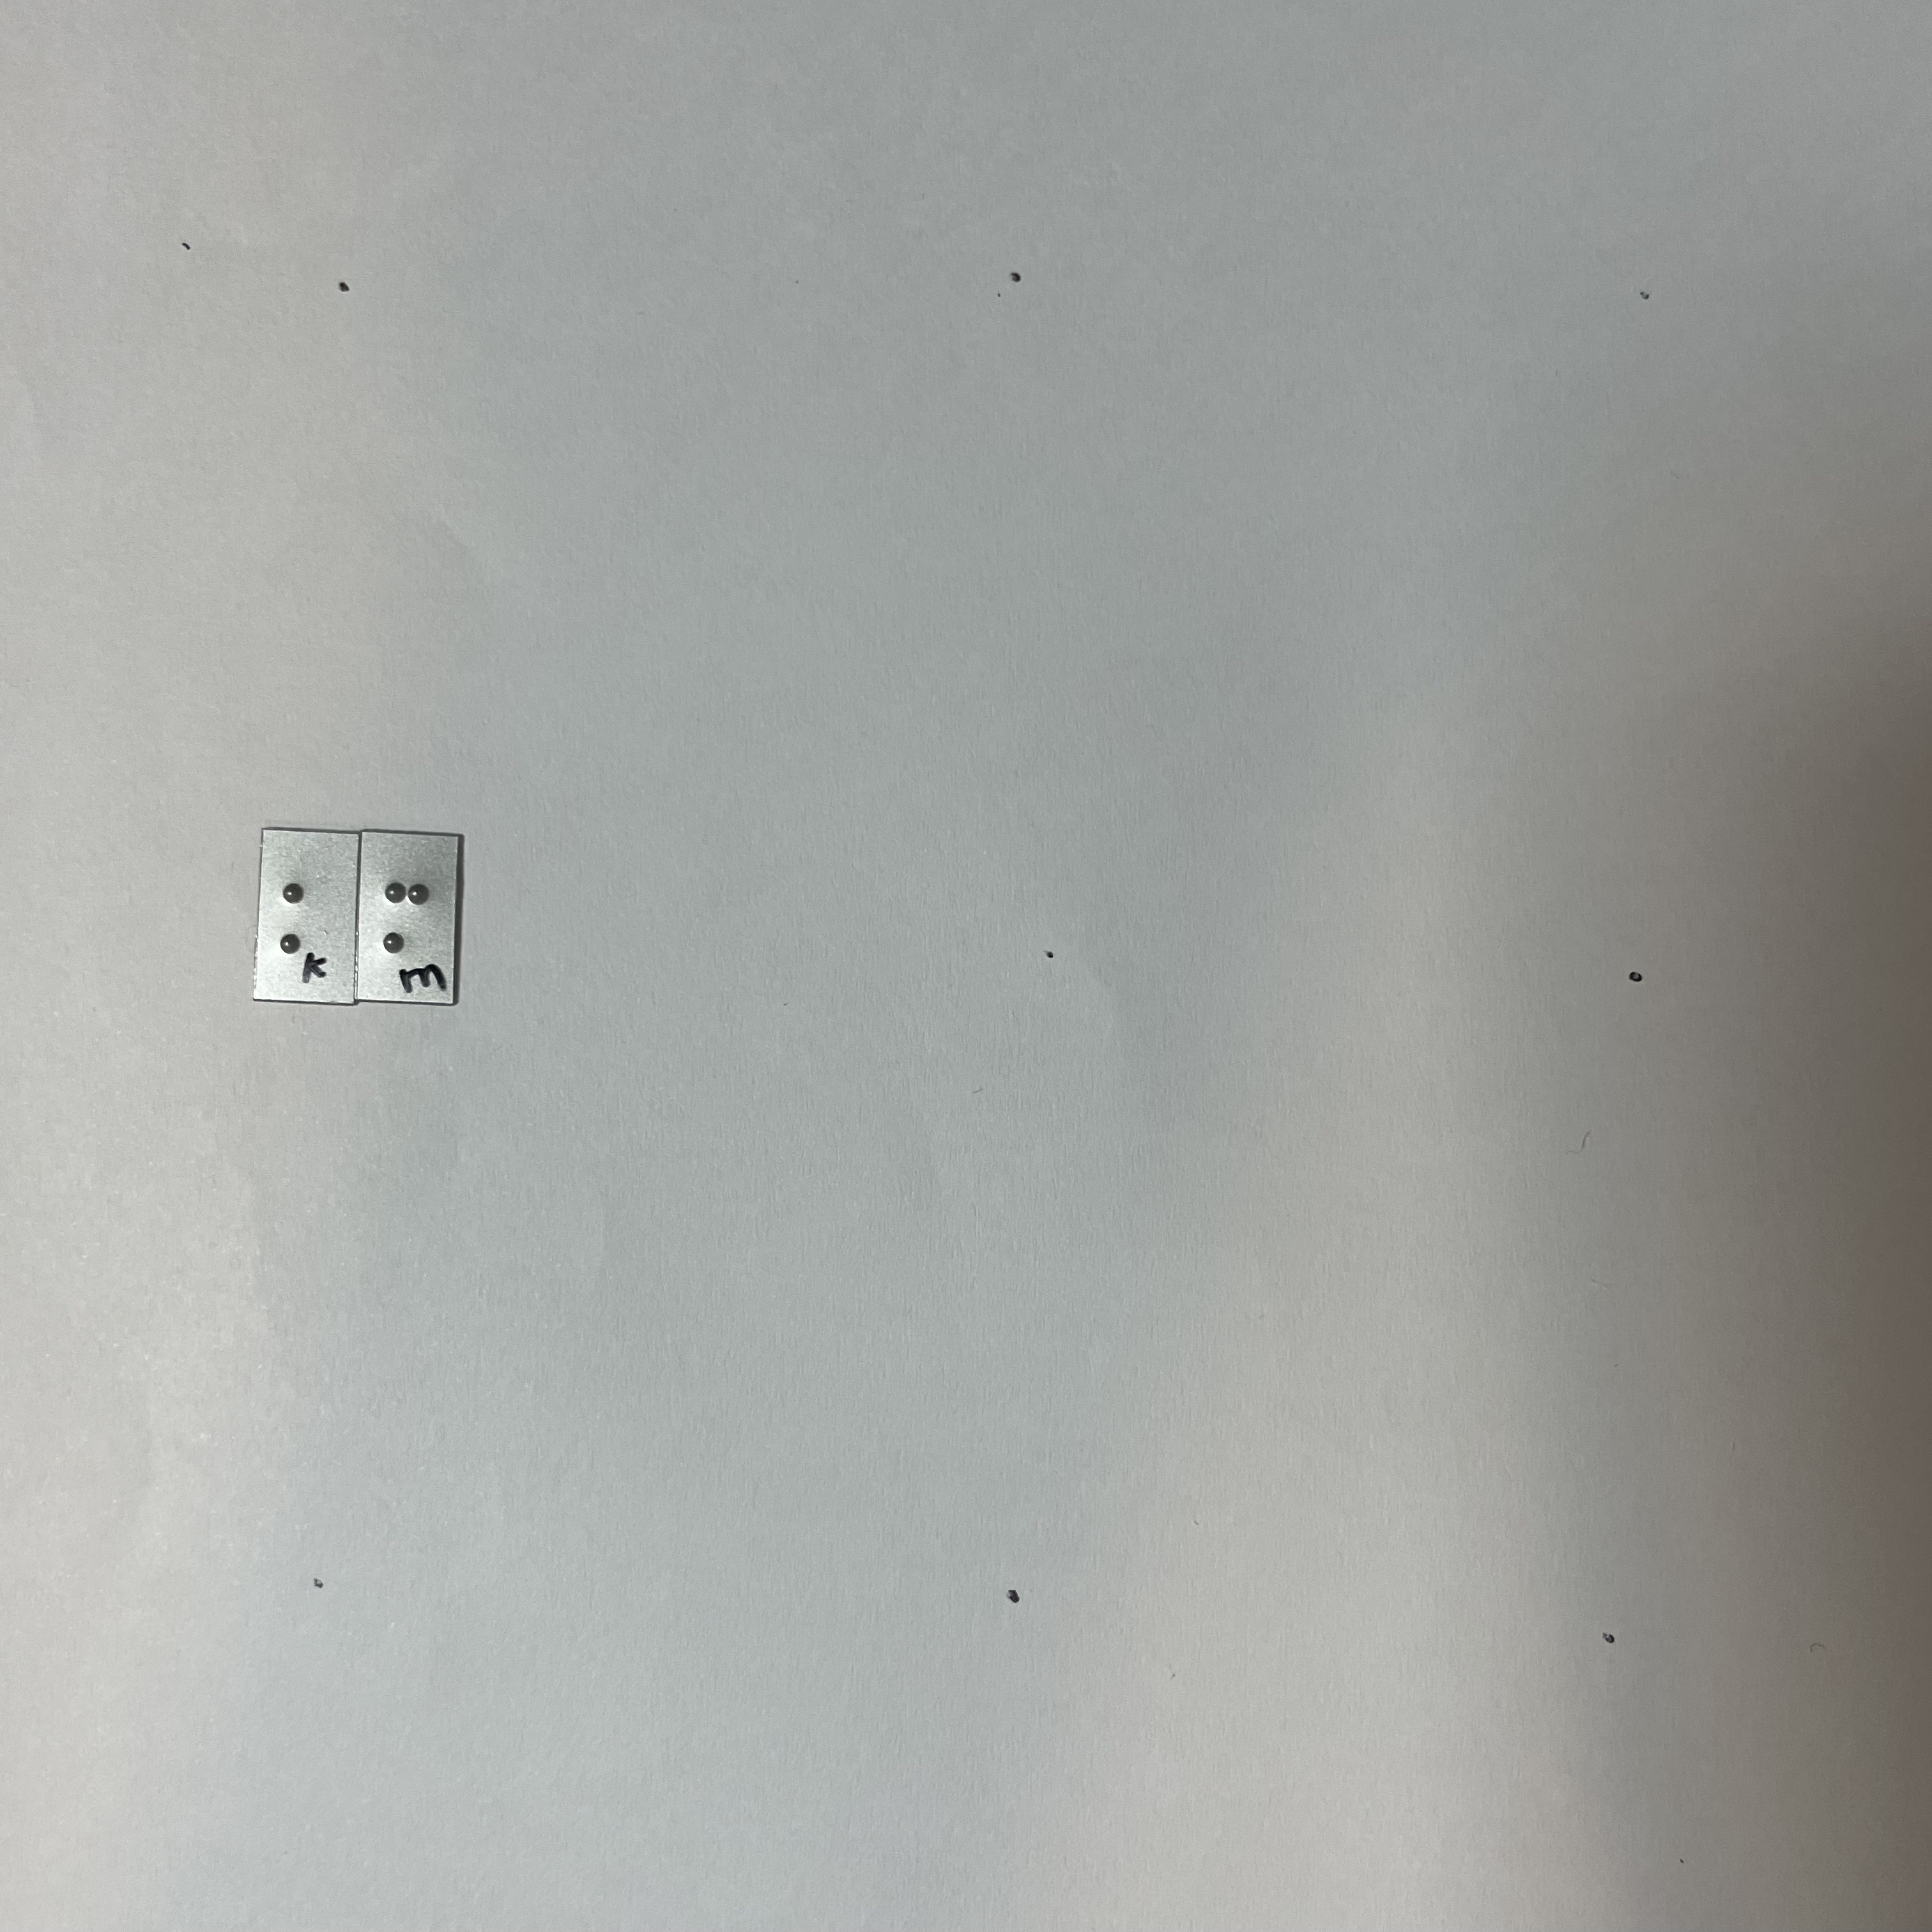k: (272, 866, 340, 963)
m: (377, 872, 434, 951)
